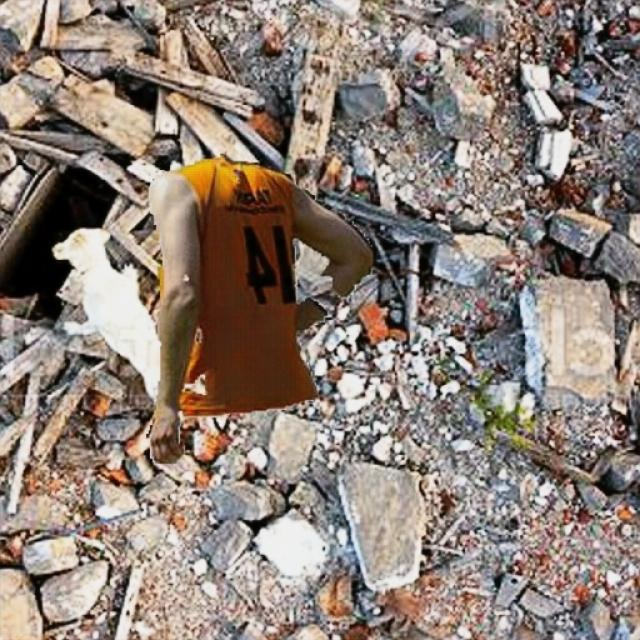Person in Rubble: (146, 152, 372, 462)
